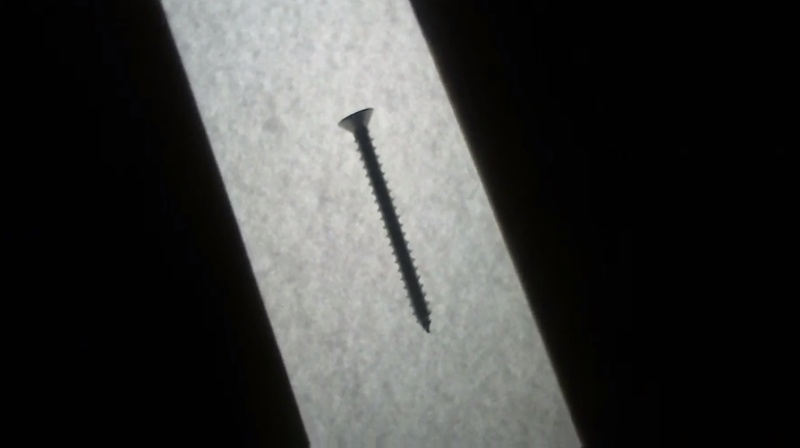S002: (334, 104, 433, 336)
